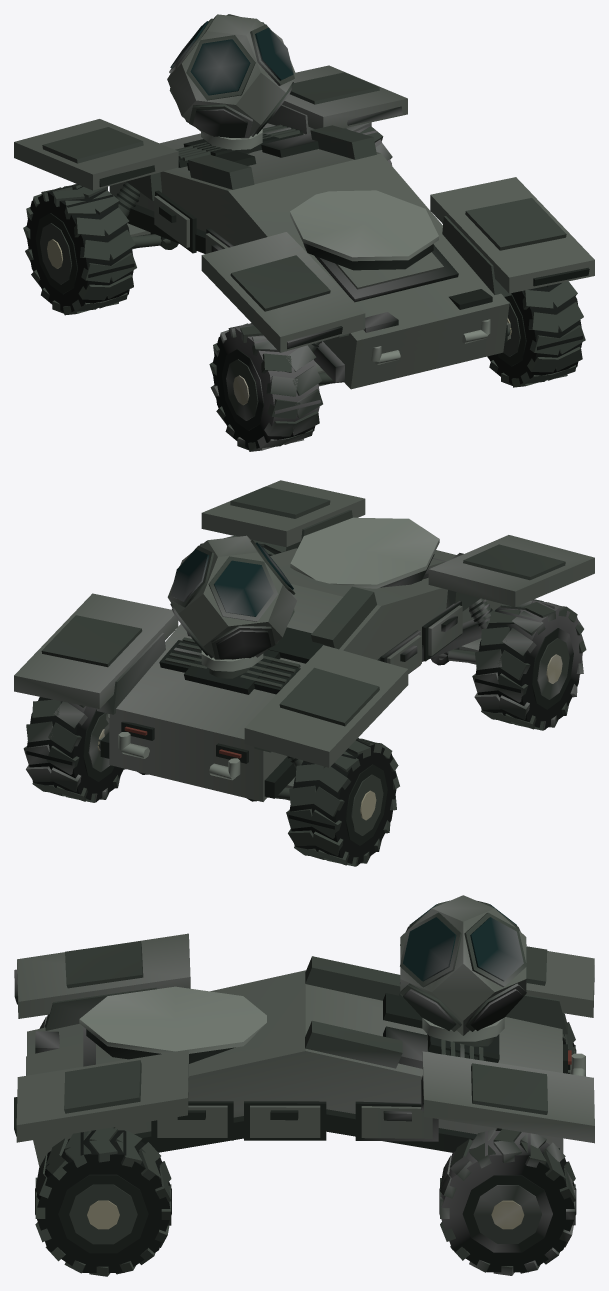
The model's file is xb12_d1_lod1.meshopt.glb.
3 views of the same model, one above another, from view 1: azimuth 30°, elevation 25°; view 2: azimuth 150°, elevation 25°; view 3: azimuth 270°, elevation 25° (orthographic). The views are drawn at different scales.
Visible parts, largest first — view 1: XB12_HULL, WHEEL_RL, WHEEL_FL, SENSOR_INSTRUMENTS, WHEEL_FR, SENSOR_HEX_SPHERE, SUSP_ARM_RL; view 2: XB12_HULL, WHEEL_FL, WHEEL_RL, WHEEL_RR, SENSOR_INSTRUMENTS, SENSOR_HEX_SPHERE, SUSP_ARM_FL; view 3: XB12_HULL, WHEEL_FR, WHEEL_RR, SENSOR_INSTRUMENTS, SENSOR_HEX_SPHERE.
Part boxes in pixels (box(x1,y1,x2,y2)): XB12_HULL: box(14, 65, 594, 389); WHEEL_RL: box(23, 184, 136, 315); WHEEL_FL: box(209, 323, 322, 451); SENSOR_INSTRUMENTS: box(169, 14, 294, 138); WHEEL_FR: box(487, 281, 585, 387); SENSOR_HEX_SPHERE: box(167, 14, 296, 137); SUSP_ARM_RL: box(127, 223, 178, 249); XB12_HULL: box(14, 480, 594, 801); WHEEL_FL: box(472, 599, 586, 730); WHEEL_RL: box(286, 737, 399, 866); WHEEL_RR: box(23, 697, 126, 802); SENSOR_INSTRUMENTS: box(169, 535, 295, 659); SENSOR_HEX_SPHERE: box(167, 535, 296, 658); SUSP_ARM_FL: box(431, 638, 481, 665); XB12_HULL: box(14, 933, 594, 1166); WHEEL_FR: box(35, 1128, 171, 1276); WHEEL_RR: box(439, 1129, 576, 1275); SENSOR_INSTRUMENTS: box(400, 900, 526, 1031); SENSOR_HEX_SPHERE: box(400, 895, 526, 1035).
Size of the model in its own units: 2.9 by 2.3 by 4.24.
